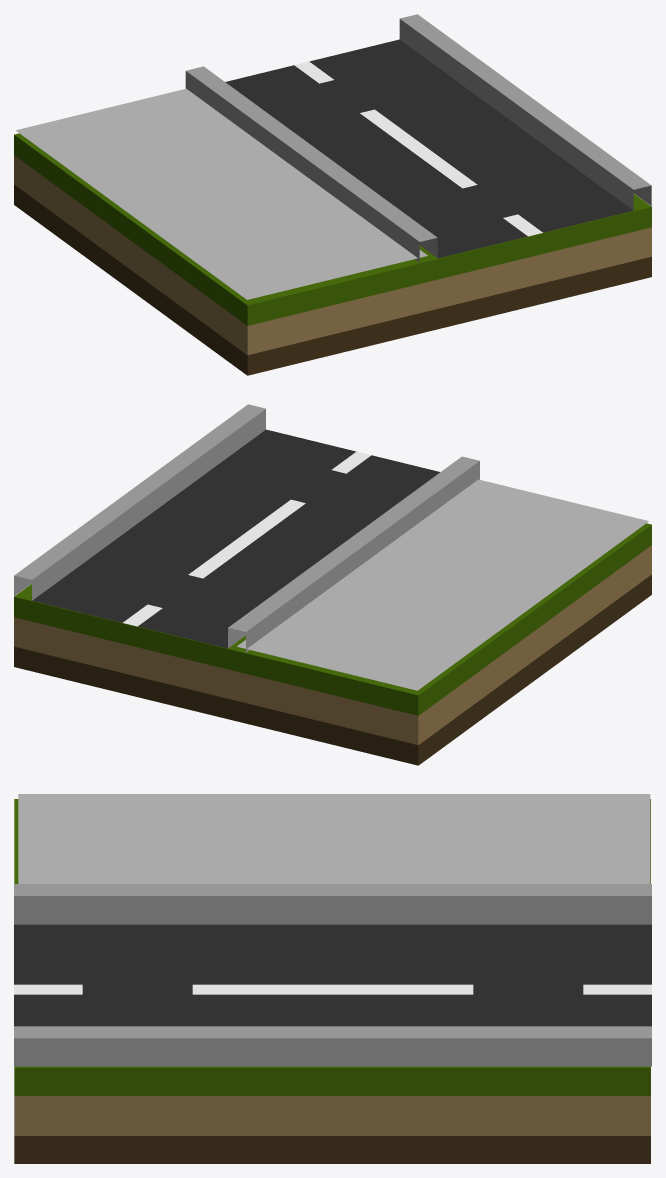
Rendered from road_merge feedback 1.fbx.
3 renders of one model, top to bottom at view 1: azimuth 30°, elevation 25°; view 2: azimuth 150°, elevation 25°; view 3: azimuth 270°, elevation 25°, orthographic. The views are drawn at different scales.
Visible parts, largest first — view 1: road; view 2: road; view 3: road.
Boxes of the visible parts, box(x1,y1,x2,y2) form: road: box(14, 14, 651, 375); road: box(14, 404, 651, 765); road: box(14, 794, 651, 1163).
Size of the model in its own units: 200 by 43.3 by 200.
